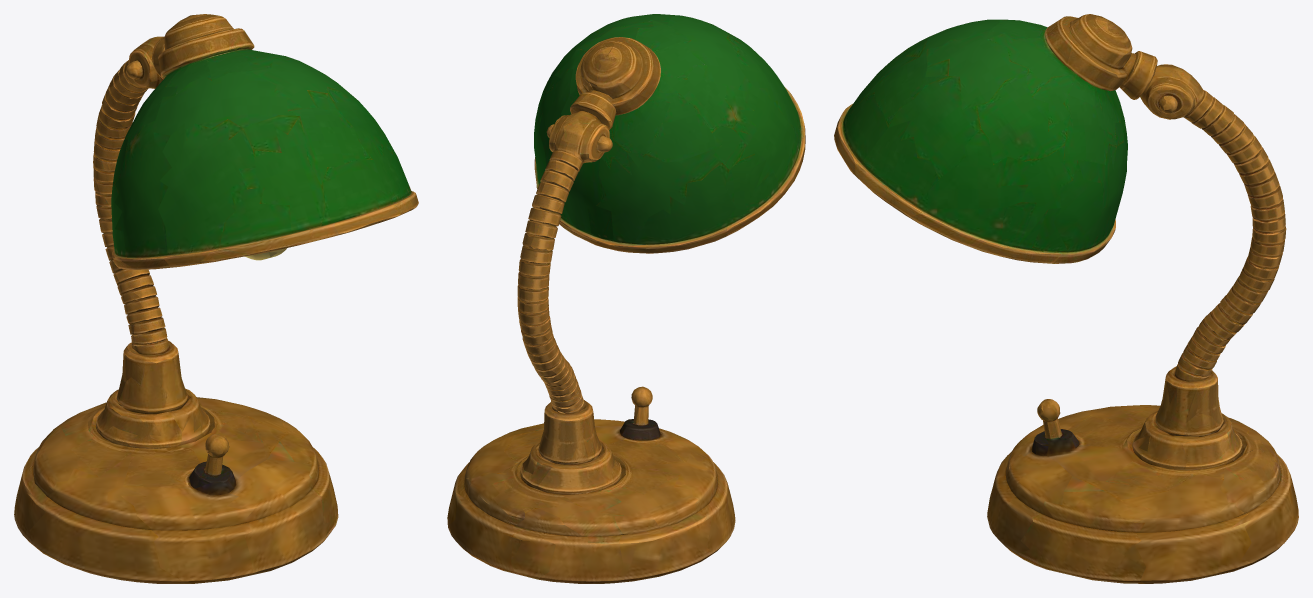
File: props_lamppu.glb
3 renders of one model, left to right at view 1: azimuth 30°, elevation 25°; view 2: azimuth 150°, elevation 25°; view 3: azimuth 270°, elevation 25°, orthographic. The views are drawn at different scales.
Visible parts, largest first — view 1: output_unwrapped; view 2: output_unwrapped; view 3: output_unwrapped.
Part boxes in pixels (bbox=[...]): output_unwrapped: bbox=[14, 14, 418, 583]; output_unwrapped: bbox=[447, 14, 805, 583]; output_unwrapped: bbox=[834, 14, 1298, 583].
Bounding box in the file's own units: 0.1017 × 0.18 × 0.1513.
1 material, 1 textured.
